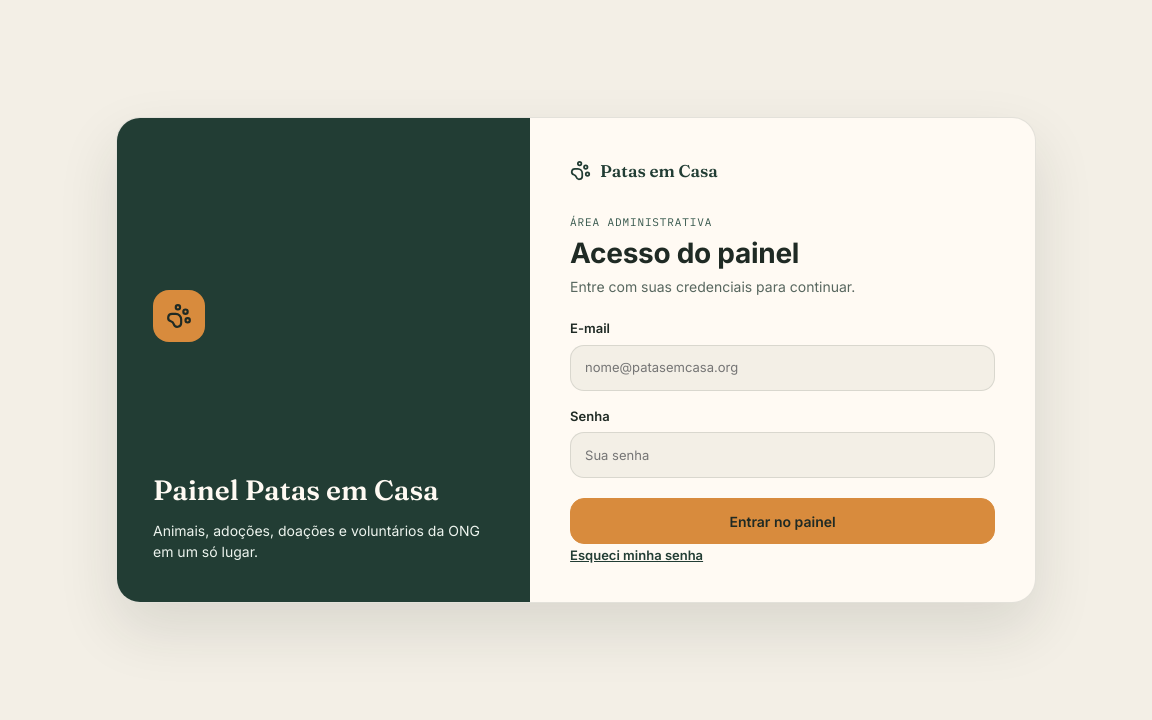
Scenario: explains when the API cannot be reached
In the field labelled "E-mail": [783, 368] box [570,345,995,391], type "carla@patasemcasa.org"
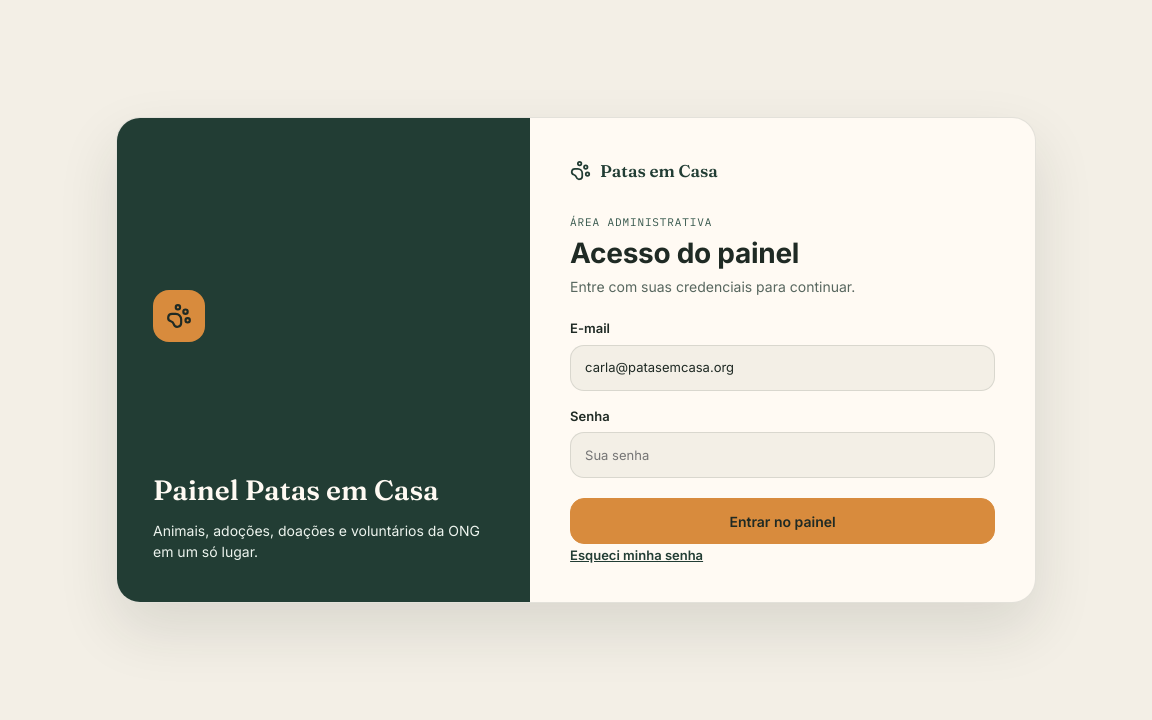
In the password field labelled "Senha": [783, 455] box [570,432,995,478], type "senha forte 123"
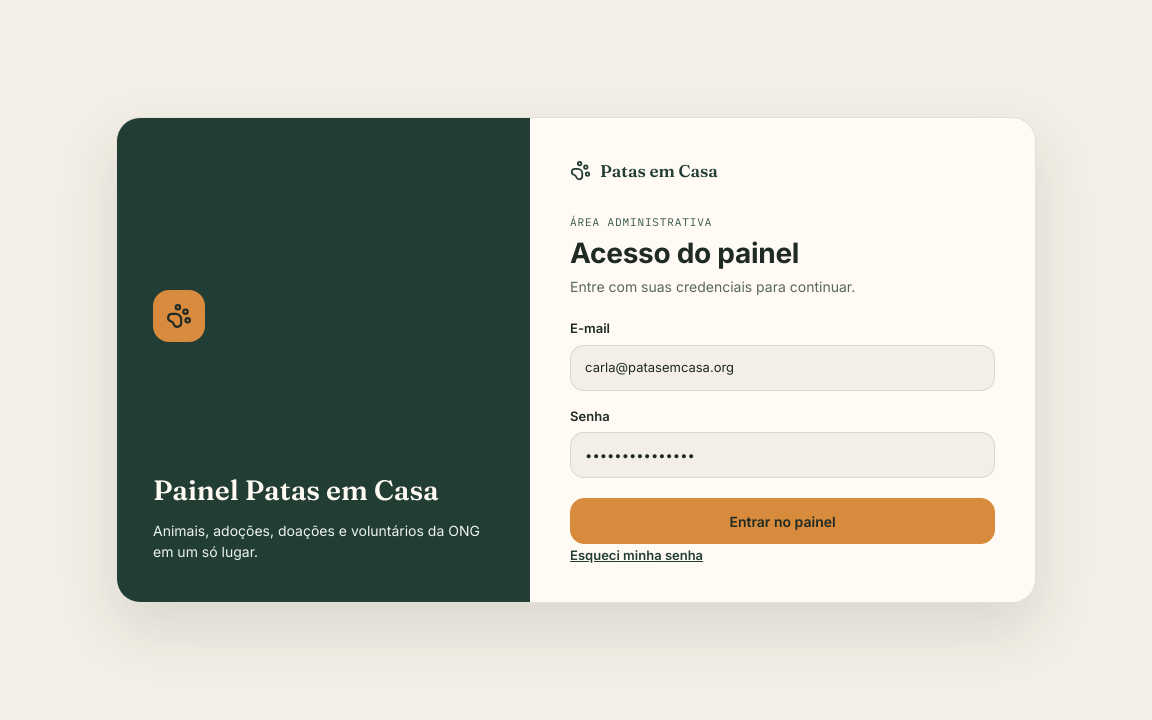
Click the button "Entrar no painel": [783, 521] box [570,498,995,544]
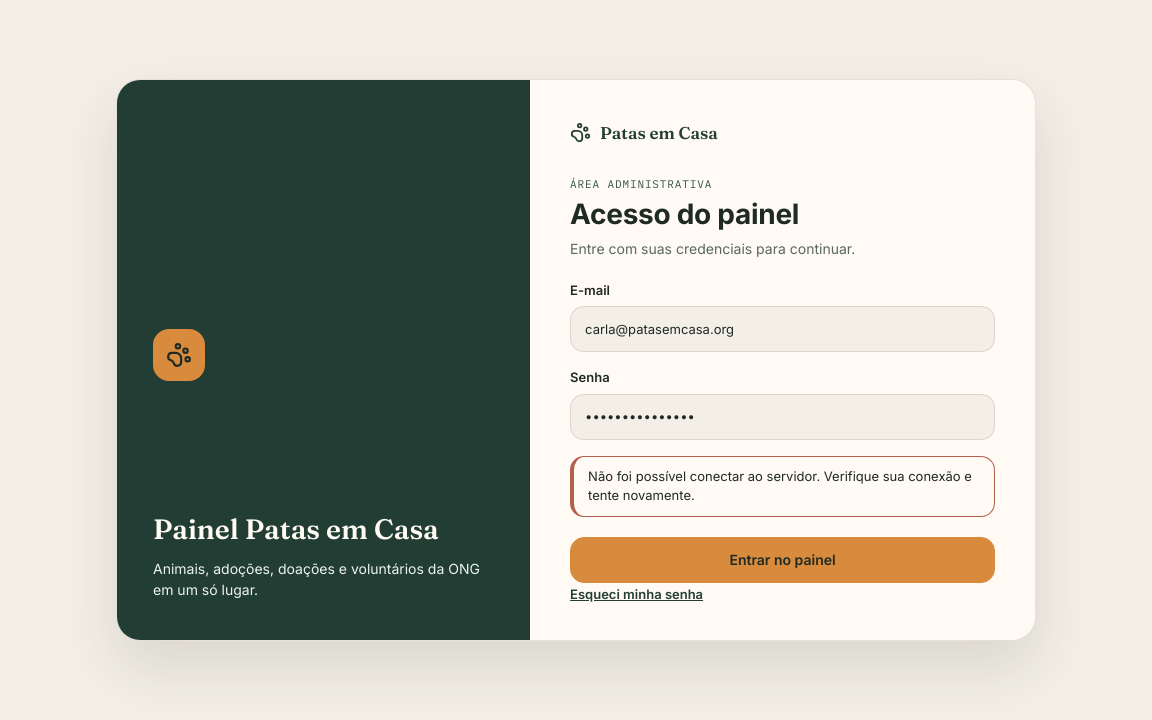
Now the message shows "Não foi possível conectar ao servidor", box [588,468,972,503]
